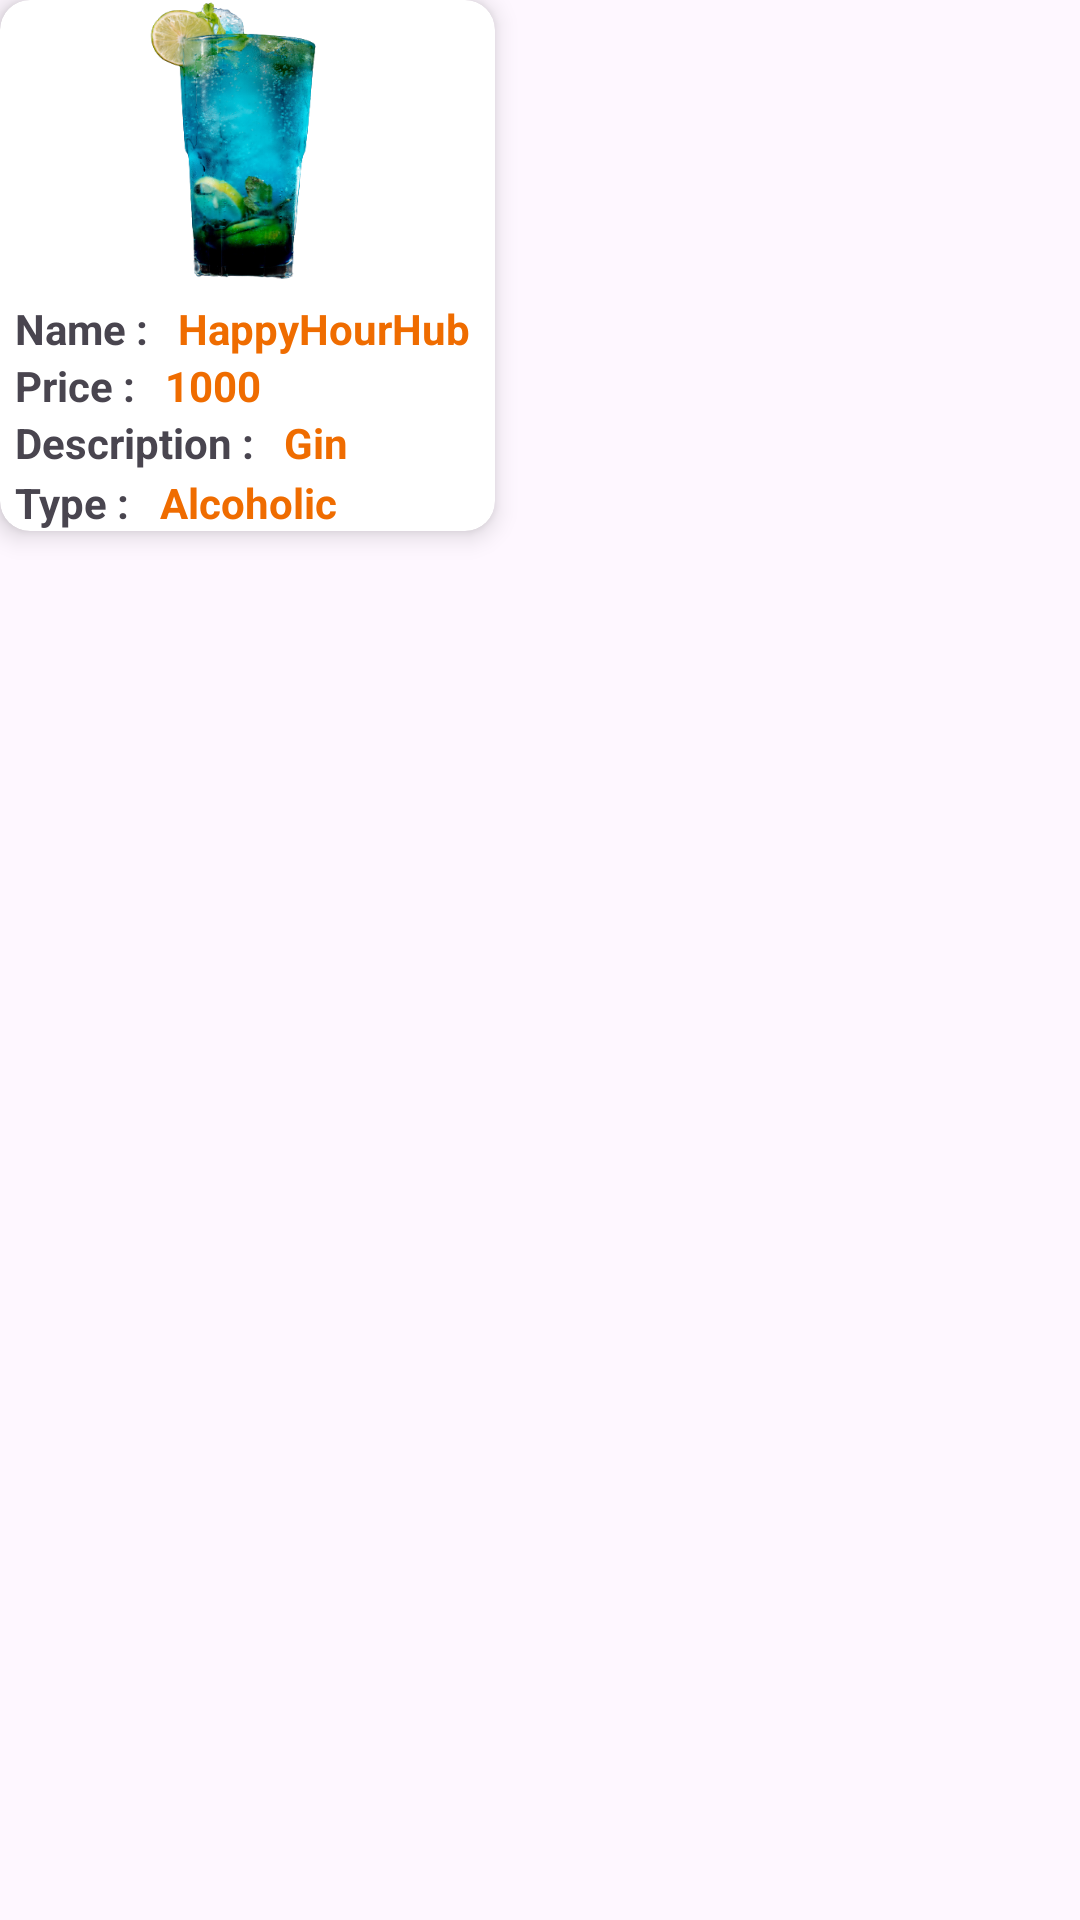

Named icons in this screenshot (1080*1920) and their centers, point (x, y):
cocktailtwo: point (158, 139)
